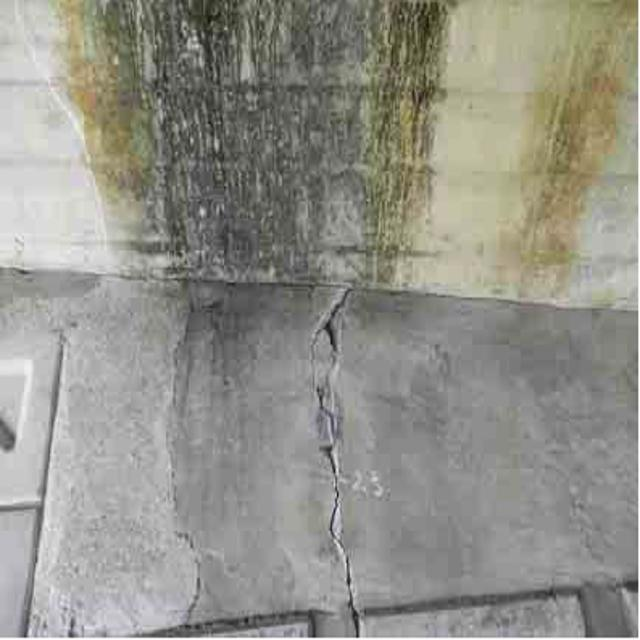crack: (292, 274, 378, 629), (157, 288, 205, 640)
